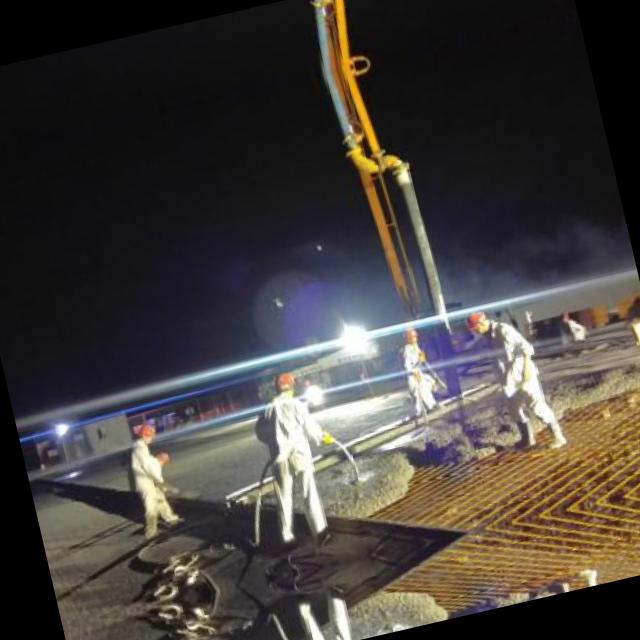helmet: (460, 304, 494, 339), (270, 369, 296, 402), (135, 422, 157, 448), (398, 325, 420, 350)
